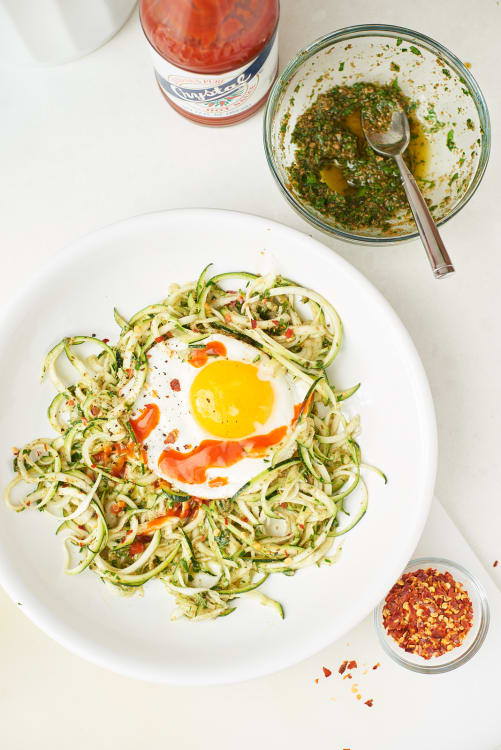fried egg: (158, 342, 281, 481)
plain spaghetti: (59, 477, 319, 592)
